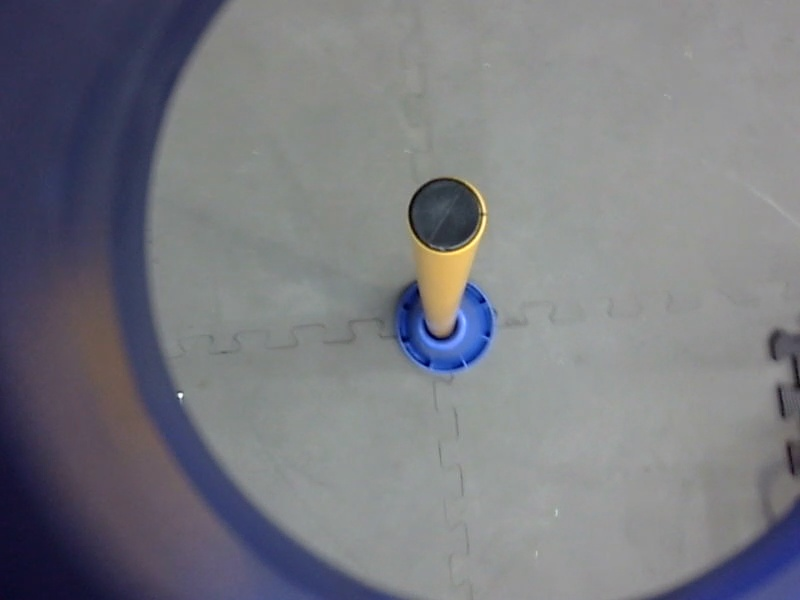tip: (397, 170, 491, 264)
